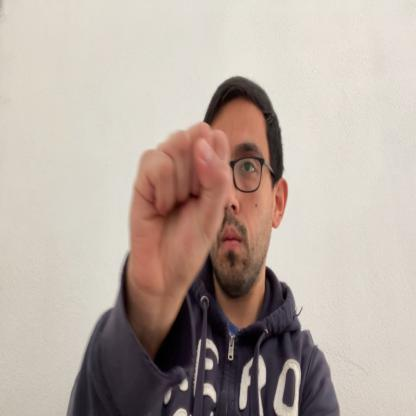S: (129, 122, 231, 308)
